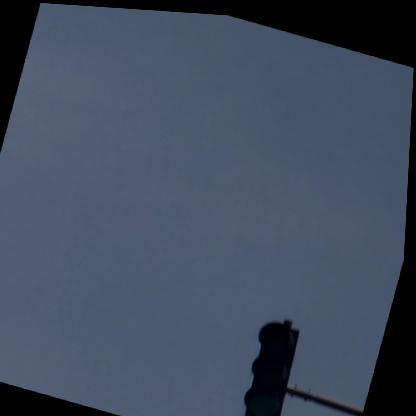green: (238, 315, 308, 415)
